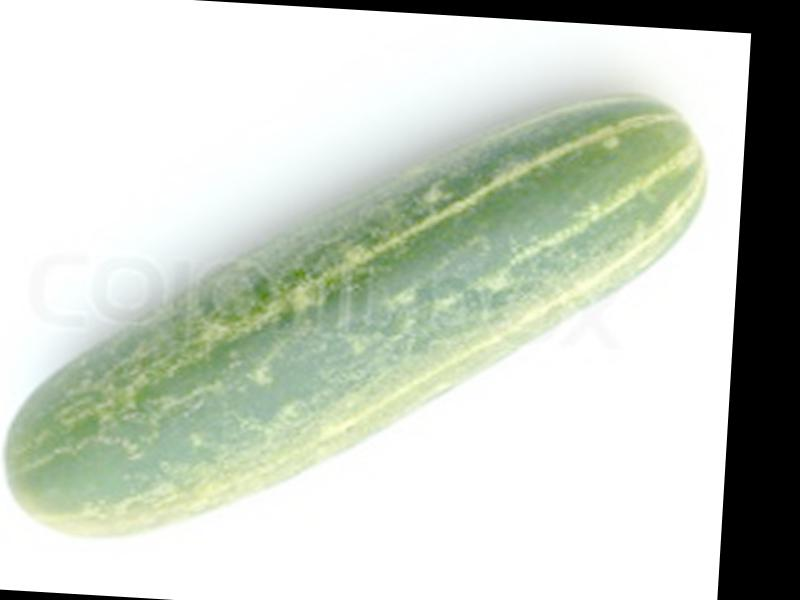Cucumber: (1, 61, 715, 577)
